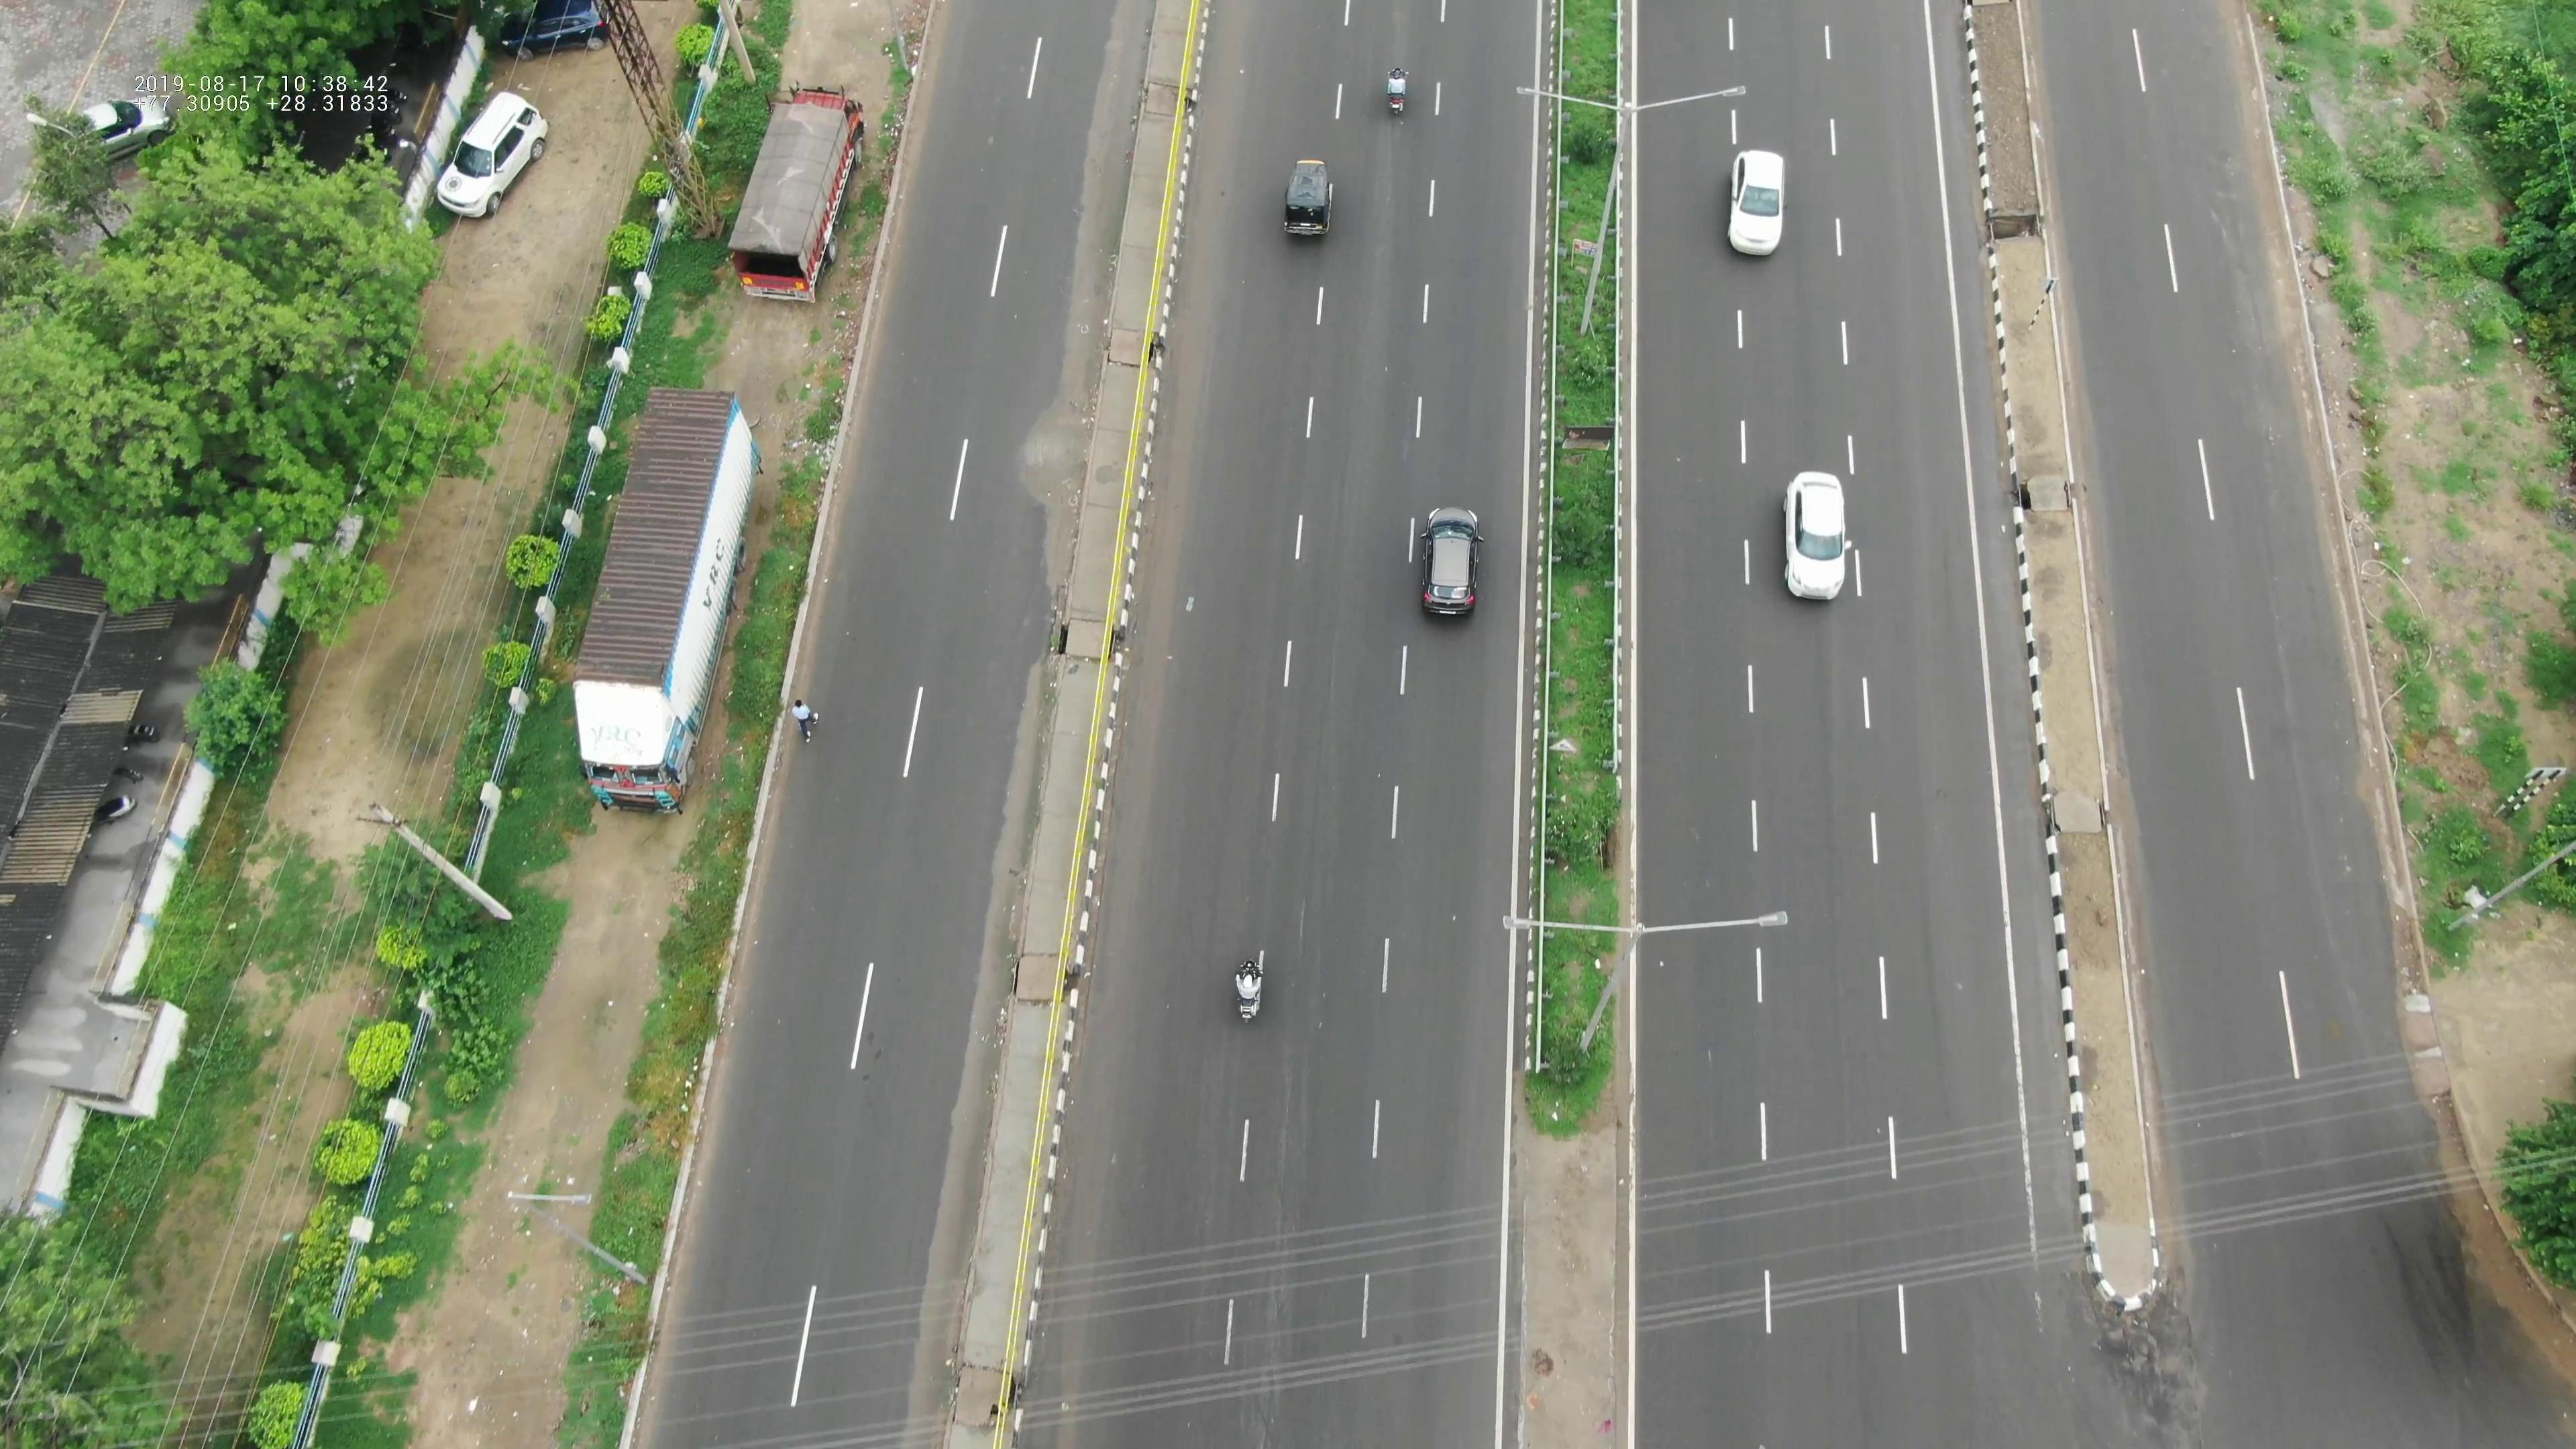Ravelling: (1217, 1122, 1315, 1433)
